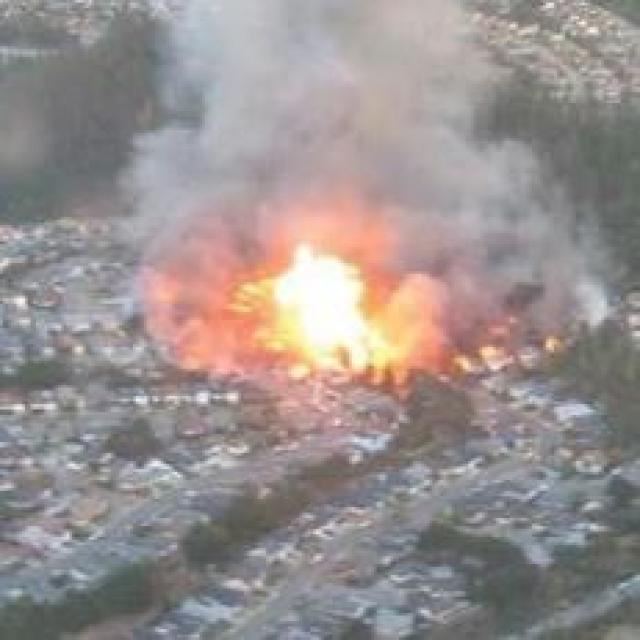Fire: (260, 253, 442, 381)
Smoke: (144, 0, 612, 361)
